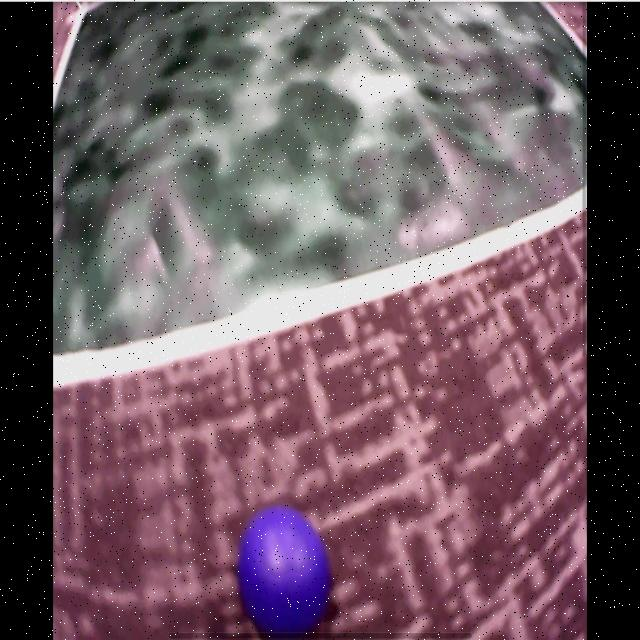ball: (240, 508, 331, 640)
